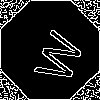W: (25, 25, 86, 87)
